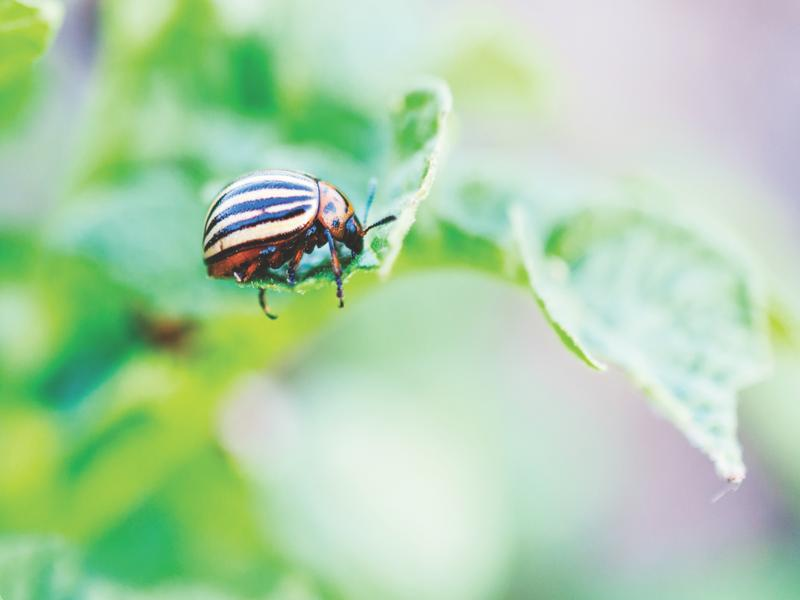hrosc: (194, 162, 366, 296)
